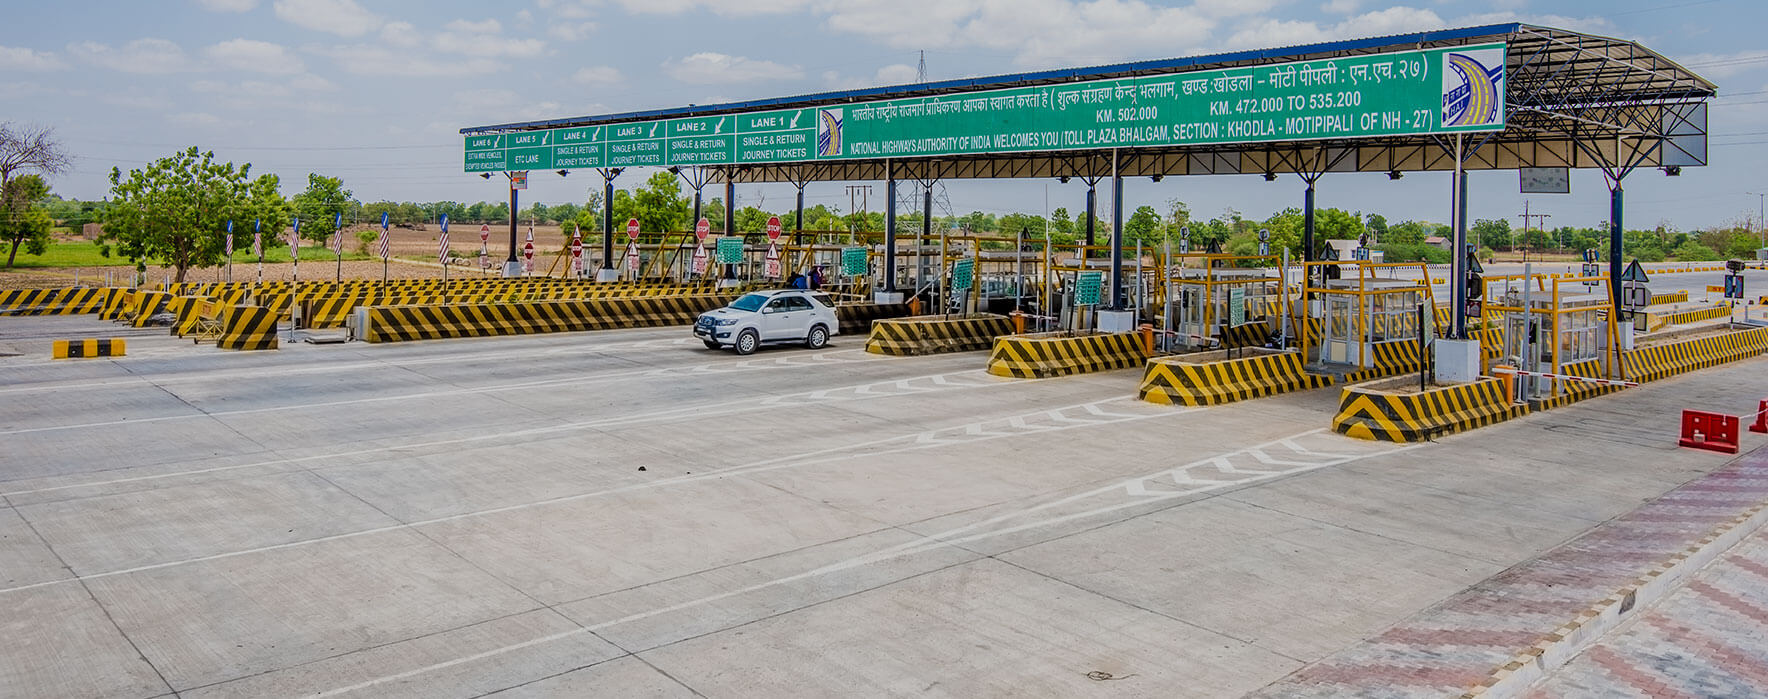toll plaza: (447, 29, 1715, 423)
